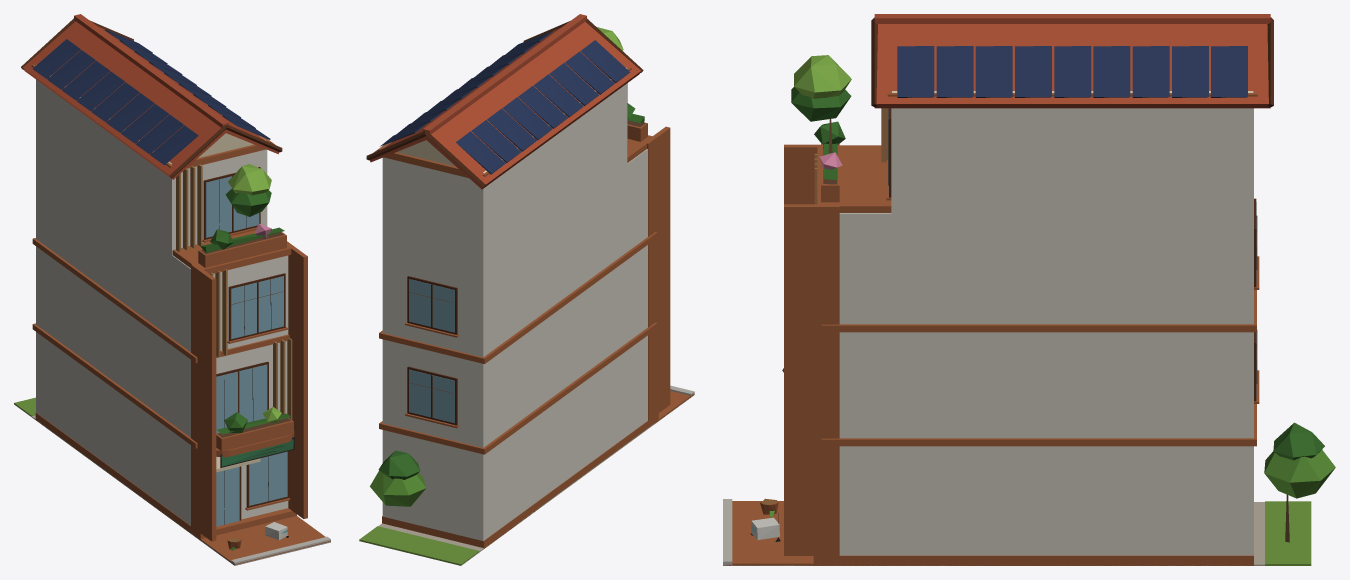
Rendered from bay2_mid2.glb.
3 views of the same model, side by side, from view 1: azimuth 30°, elevation 25°; view 2: azimuth 150°, elevation 25°; view 3: azimuth 270°, elevation 25° (orthographic). The views are drawn at different scales.
Visible parts, largest first — view 1: body; view 2: body; view 3: body.
Boxes of the visible parts, x1,y1,x2,y2 form: body: (14,14,330,565); body: (359,14,694,565); body: (723,14,1335,565).
Bounding box in the file's own units: 4.7 × 15.84 × 16.56.
